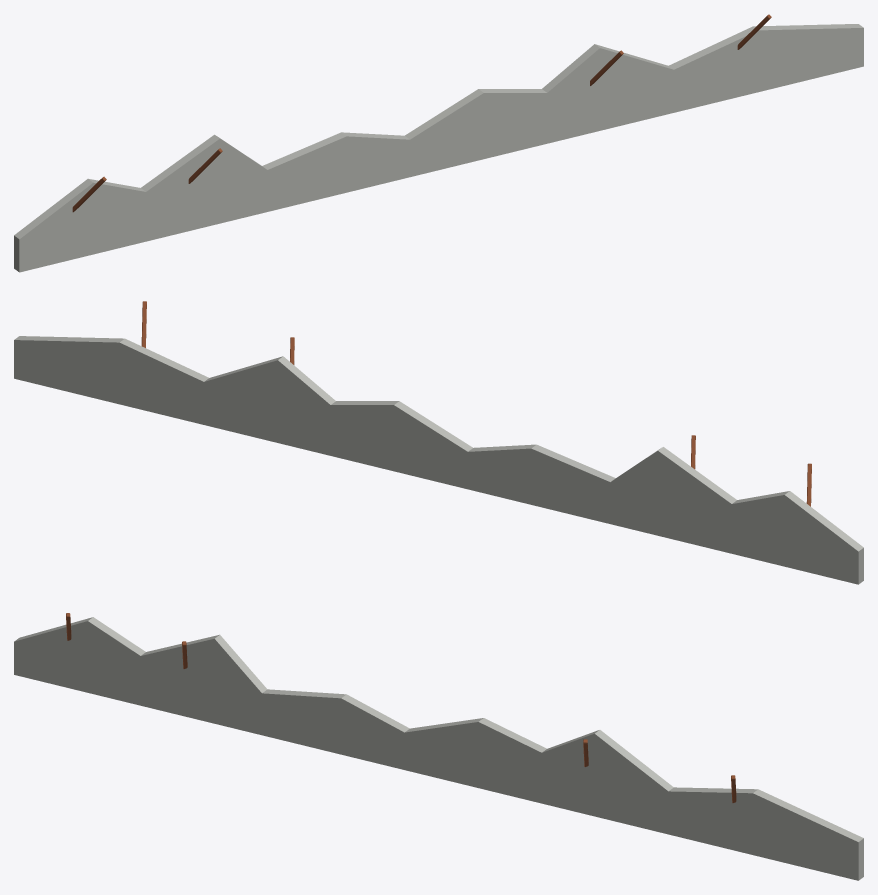
The model's file is Torn_Skin_Lip.glb.
3 views of the same model, one above another, from view 1: azimuth 30°, elevation 25°; view 2: azimuth 150°, elevation 25°; view 3: azimuth 330°, elevation 25° (orthographic).
Visible parts, largest first — view 1: Torn_Skin_Lip; view 2: Torn_Skin_Lip; view 3: Torn_Skin_Lip.
Part boxes in pixels (box(x1,y1,x2,y2)): Torn_Skin_Lip: box(14, 14, 863, 272); Torn_Skin_Lip: box(14, 301, 863, 584); Torn_Skin_Lip: box(14, 613, 863, 880).
Bounding box in the file's own units: 8 × 0.8084 × 0.3603.
